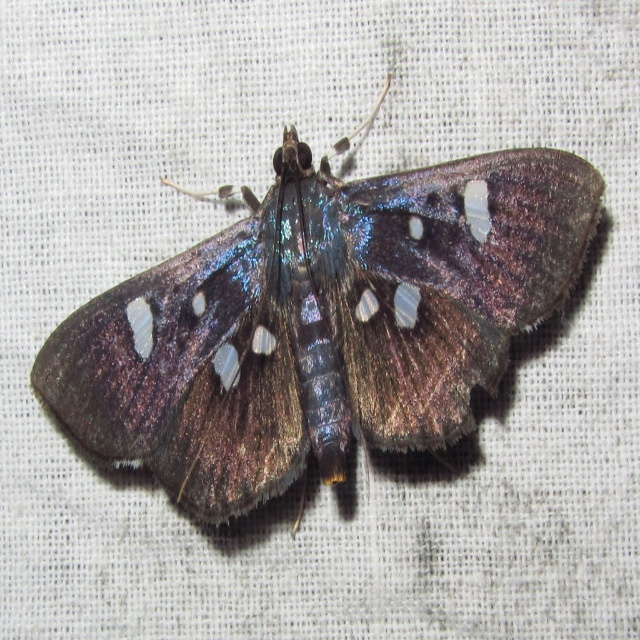Moths and butterflies: (26, 73, 609, 544)
